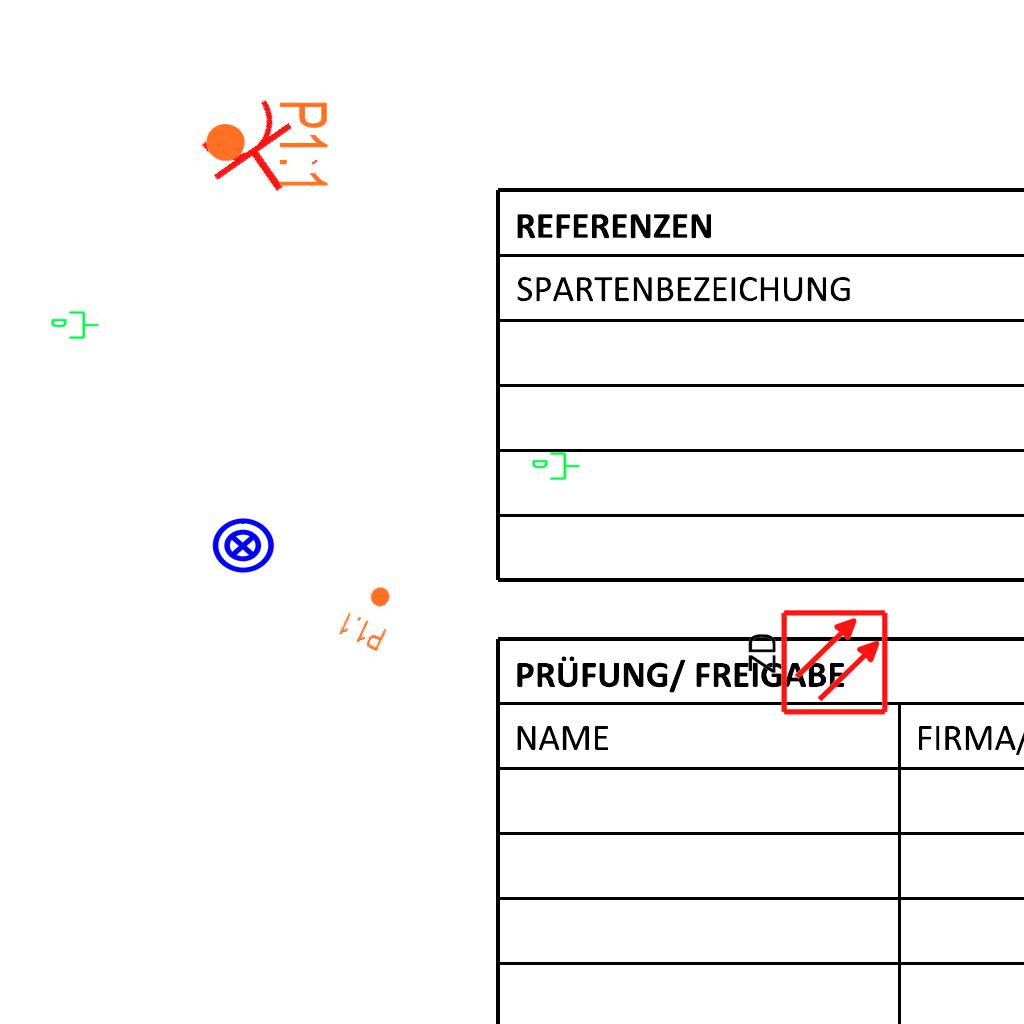Datenanschluss_einfach: (50, 309, 100, 343), (531, 450, 581, 484)
Downlight_LED_Einbauleuchten_Flur: (203, 99, 331, 192), (335, 576, 405, 654)
Schukosteckdose_einfach: (191, 89, 324, 219)
Taster_beleuchtet: (210, 513, 276, 579)
ZD_Melder_in_Zwischendecke_mit_Revisionsoeffnung_mind_40_x_40_cm: (741, 607, 890, 721)
